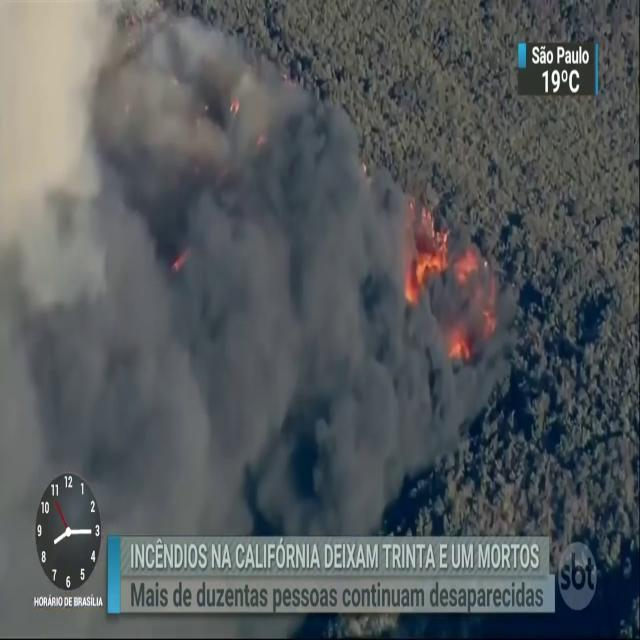Fire: (404, 202, 448, 302), (448, 324, 470, 358), (455, 248, 477, 282)
